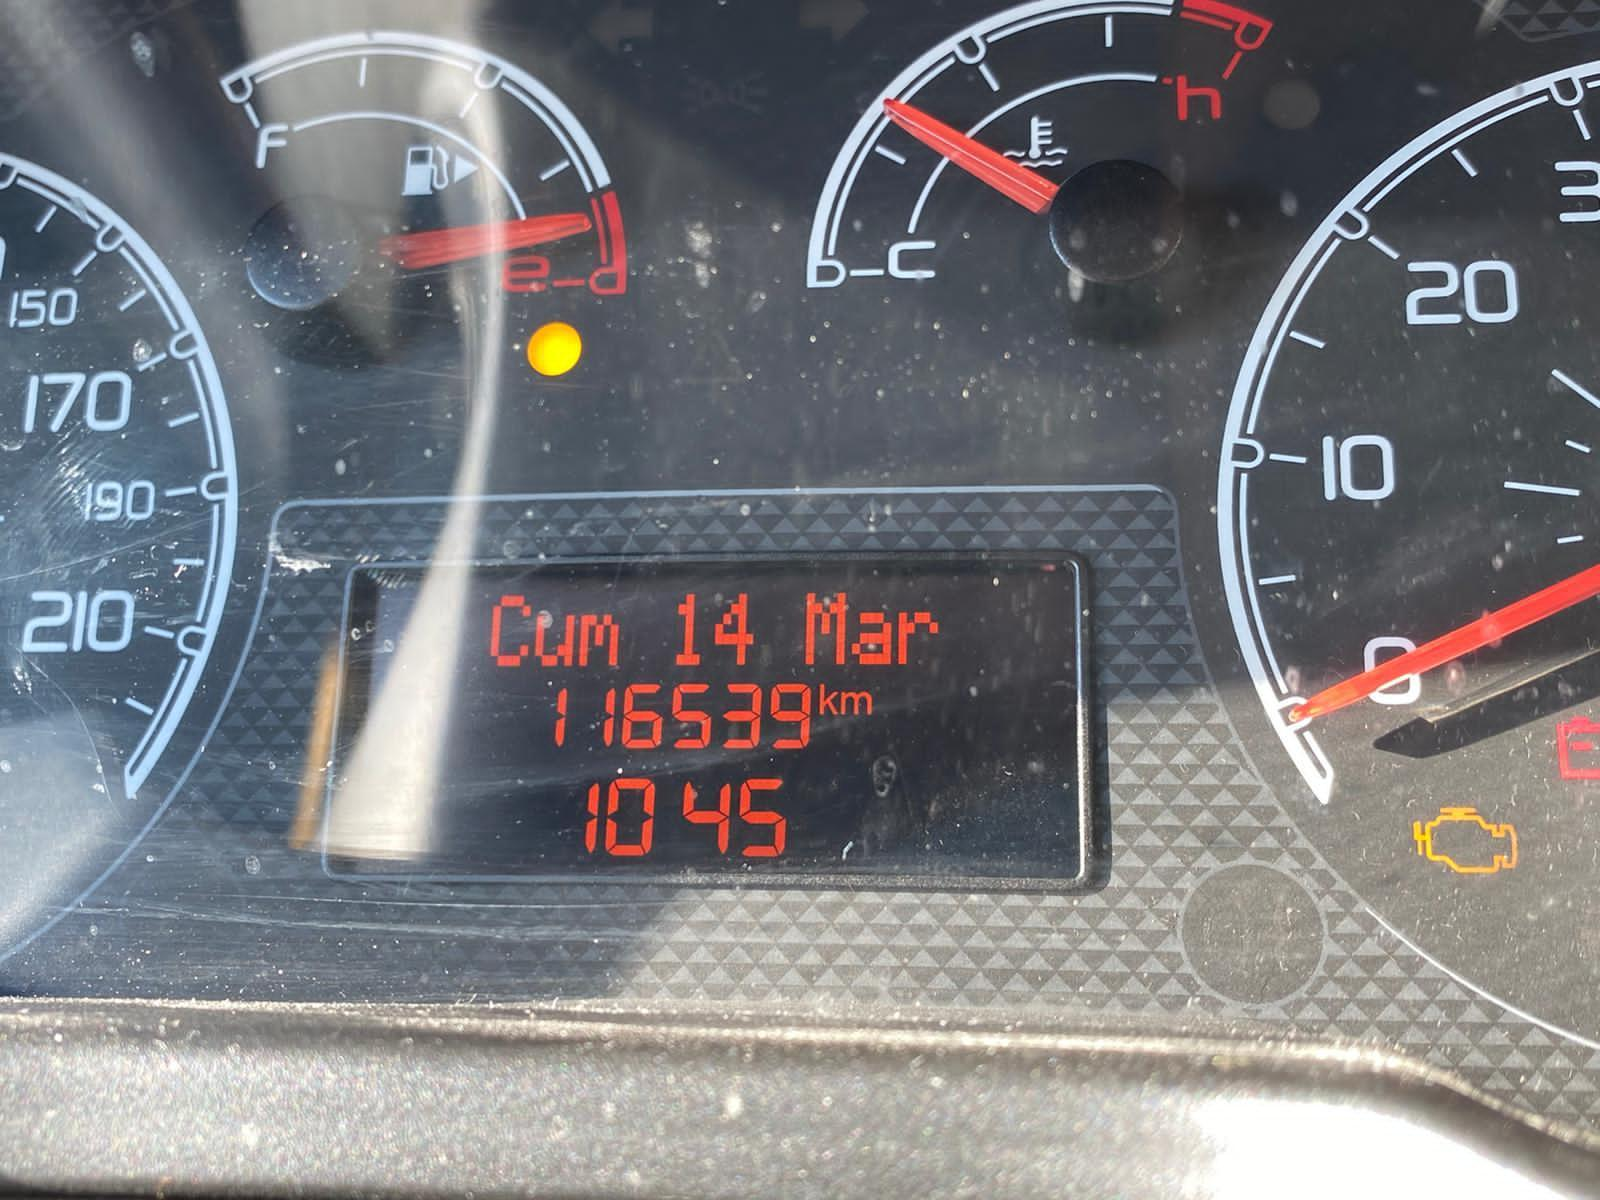0: (603, 776, 655, 857)
1: (675, 591, 702, 667), (582, 782, 600, 855), (551, 684, 569, 749), (600, 686, 619, 747)
3: (721, 682, 761, 749)
4: (682, 780, 729, 855), (712, 590, 755, 667)
5: (736, 776, 787, 858), (669, 681, 711, 749)
6: (620, 682, 663, 749)
9: (769, 682, 813, 750)
X: (803, 590, 847, 667), (488, 592, 530, 668), (533, 613, 576, 669), (897, 609, 939, 667), (849, 611, 892, 667), (576, 613, 619, 667), (816, 682, 842, 716), (839, 689, 873, 715)
odometer: (317, 550, 1094, 885)
